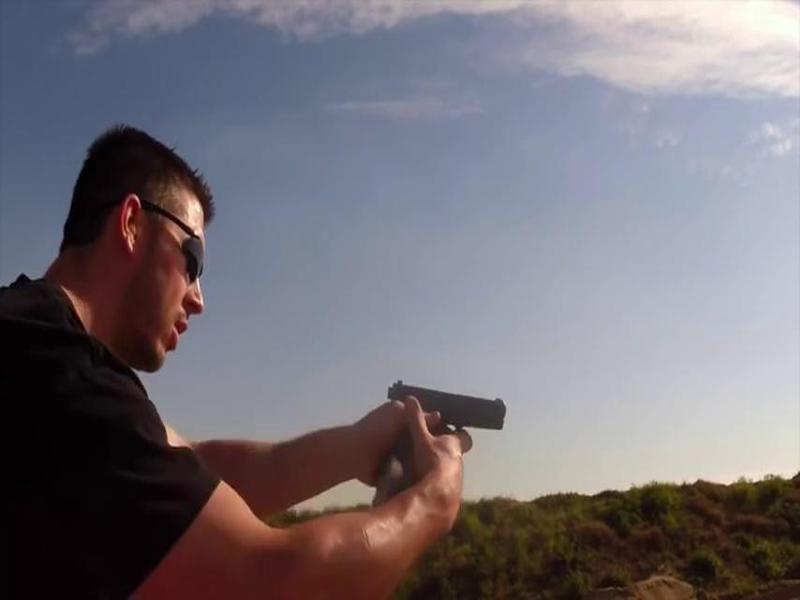Pistola: (363, 376, 522, 495)
